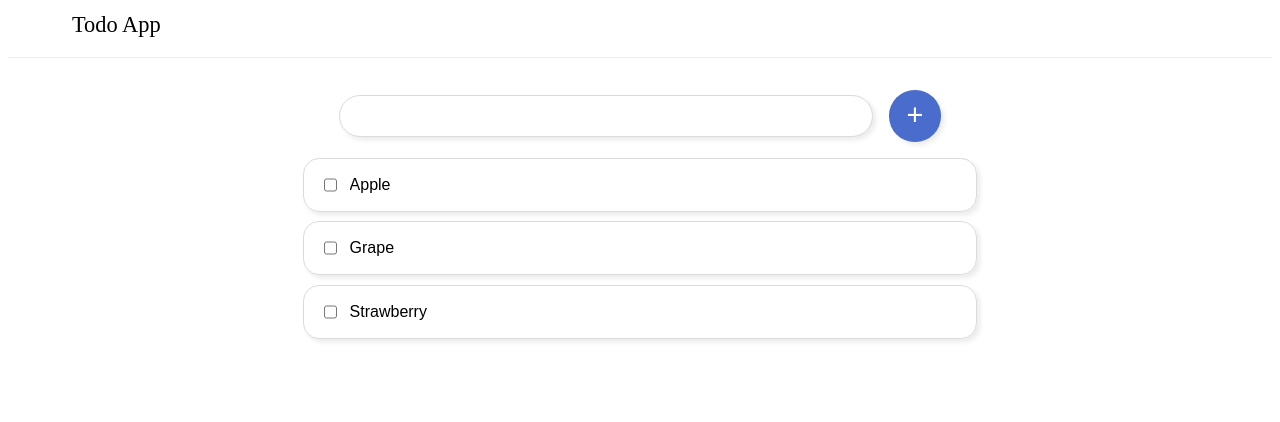
Scenario: test todo crud operation › can add new todo items
Type "Hello World!" into the field with test id "inputTask".
click(606, 117); type("Hello World!")  # box left=339, top=95, right=873, bottom=138
Then press Enter
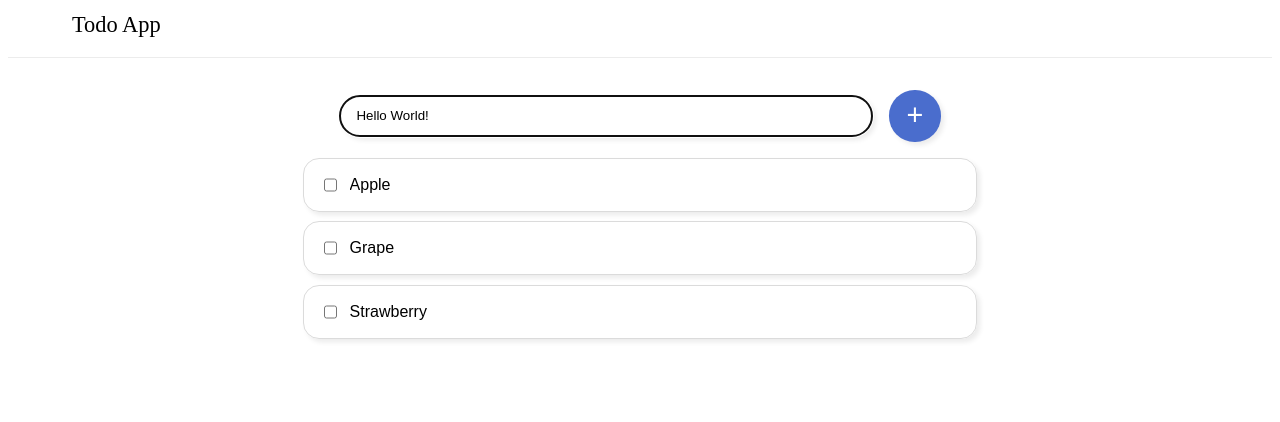
Click the button with test id "addTaskButton".
click(915, 116)  # box left=889, top=90, right=940, bottom=141
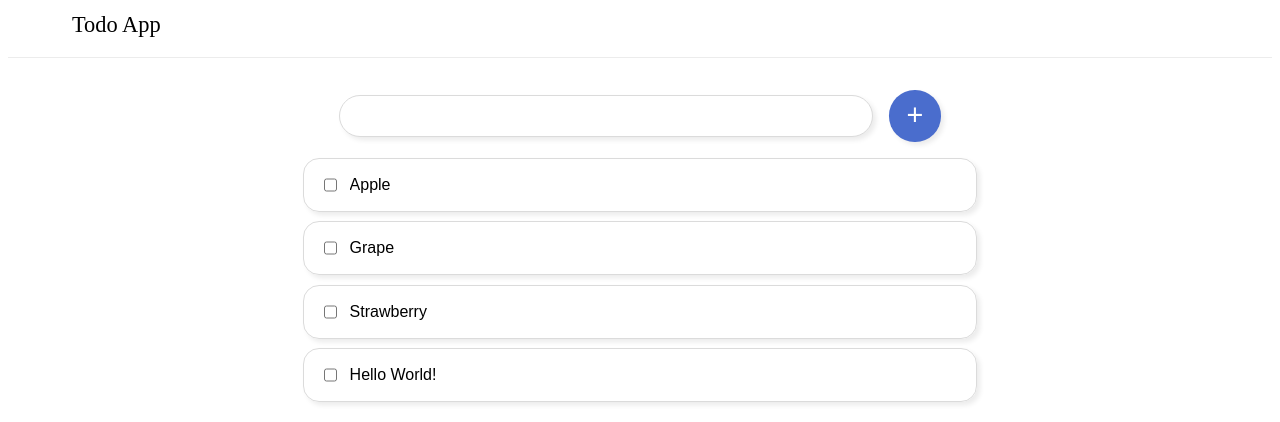
Result: the number of list items with test id "todoList" is 4 at left=303, top=158, right=977, bottom=212; left=303, top=221, right=977, bottom=275; left=303, top=285, right=977, bottom=339; left=303, top=348, right=977, bottom=402
Result: the 5th field with test id "todoTitle" holds "Hello World!" at left=340, top=365, right=559, bottom=385
